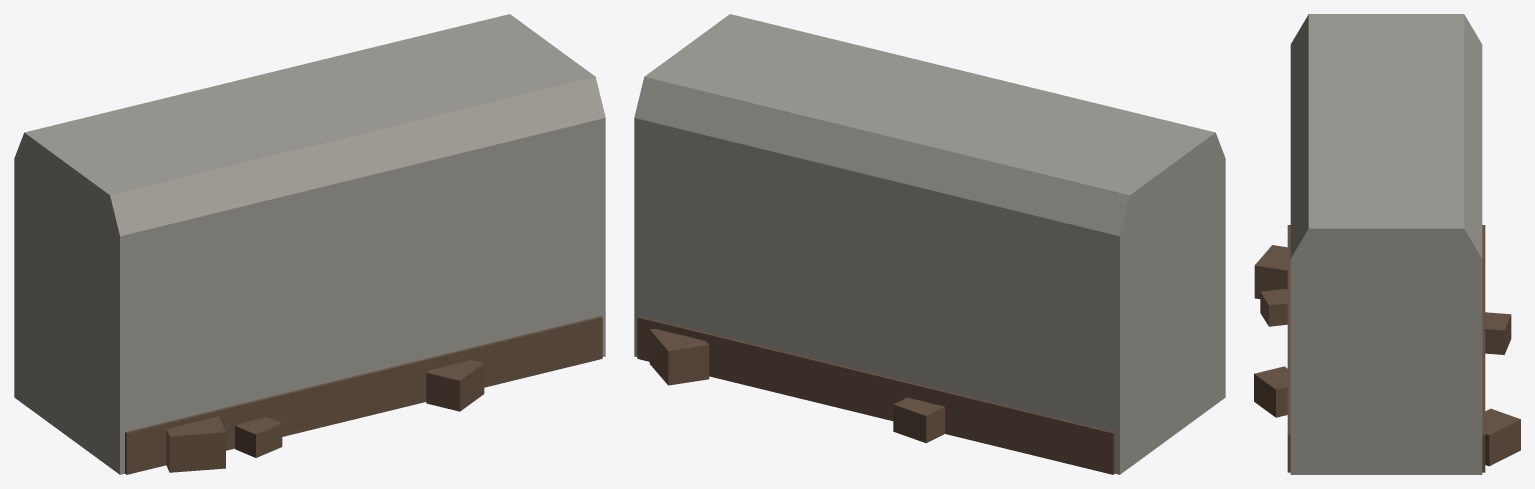
Rendered from oc_barrier_long.obj.
3 renders of one model, left to right at view 1: azimuth 30°, elevation 25°; view 2: azimuth 150°, elevation 25°; view 3: azimuth 270°, elevation 25°, orthographic. The views are drawn at different scales.
Visible parts, largest first — view 1: oc_barrier_long_0, oc_barrier_long_1, oc_barrier_long_3, oc_barrier_long_5, oc_barrier_long_4; view 2: oc_barrier_long_0, oc_barrier_long_2, oc_barrier_long_6, oc_barrier_long_7; view 3: oc_barrier_long_0, oc_barrier_long_6, oc_barrier_long_5, oc_barrier_long_3, oc_barrier_long_7, oc_barrier_long_1, oc_barrier_long_2, oc_barrier_long_4.
Boxes of the visible parts, box(x1,y1,x2,y2) form: oc_barrier_long_0: box(14, 14, 605, 474); oc_barrier_long_1: box(125, 316, 602, 474); oc_barrier_long_3: box(166, 416, 225, 472); oc_barrier_long_5: box(426, 360, 484, 411); oc_barrier_long_4: box(235, 417, 282, 457); oc_barrier_long_0: box(634, 14, 1225, 474); oc_barrier_long_2: box(637, 316, 1114, 474); oc_barrier_long_6: box(649, 328, 709, 385); oc_barrier_long_7: box(893, 397, 944, 443); oc_barrier_long_0: box(1290, 14, 1482, 474); oc_barrier_long_6: box(1485, 408, 1520, 466); oc_barrier_long_5: box(1254, 366, 1287, 417); oc_barrier_long_3: box(1254, 245, 1287, 298); oc_barrier_long_7: box(1485, 312, 1511, 354); oc_barrier_long_1: box(1287, 225, 1290, 472); oc_barrier_long_2: box(1482, 225, 1485, 472); oc_barrier_long_4: box(1260, 289, 1287, 326).
Bounding box in the file's own units: 1.96 × 1.05 × 1.03.
